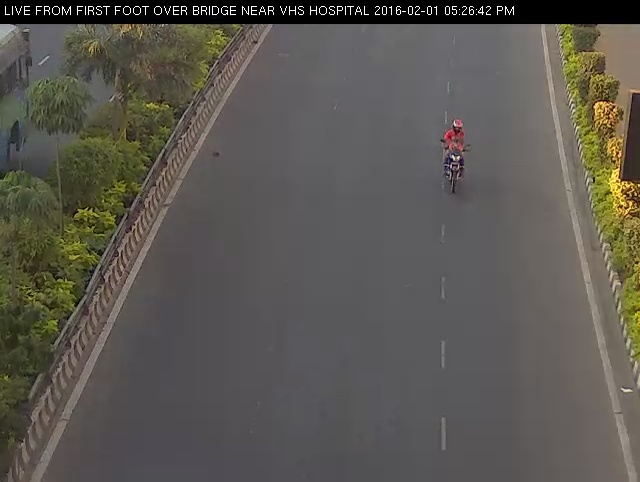Person: (433, 108, 476, 202)
